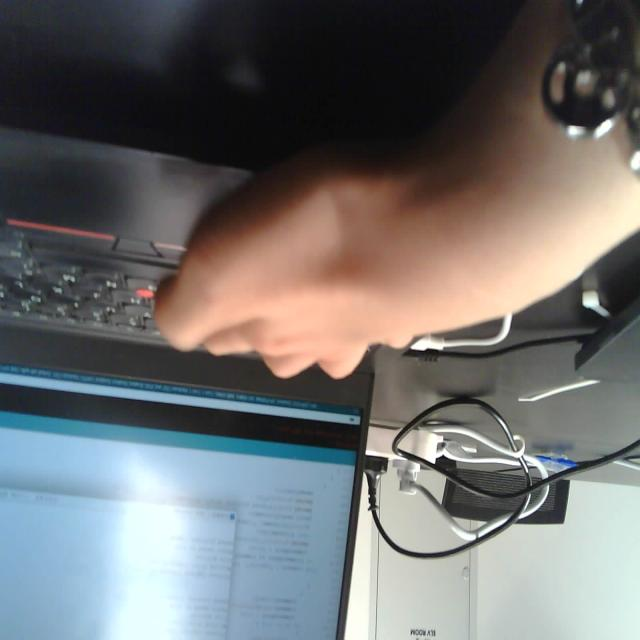keyboard-with-hands: (0, 121, 395, 366)
